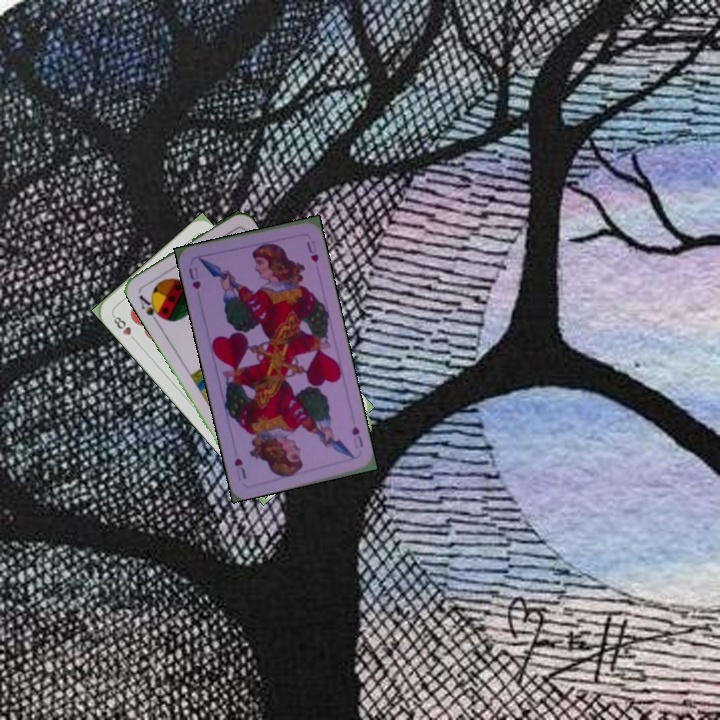H8: (109, 311, 139, 344)
HU: (184, 264, 203, 292), (348, 422, 366, 450)
SA: (135, 291, 165, 324)
